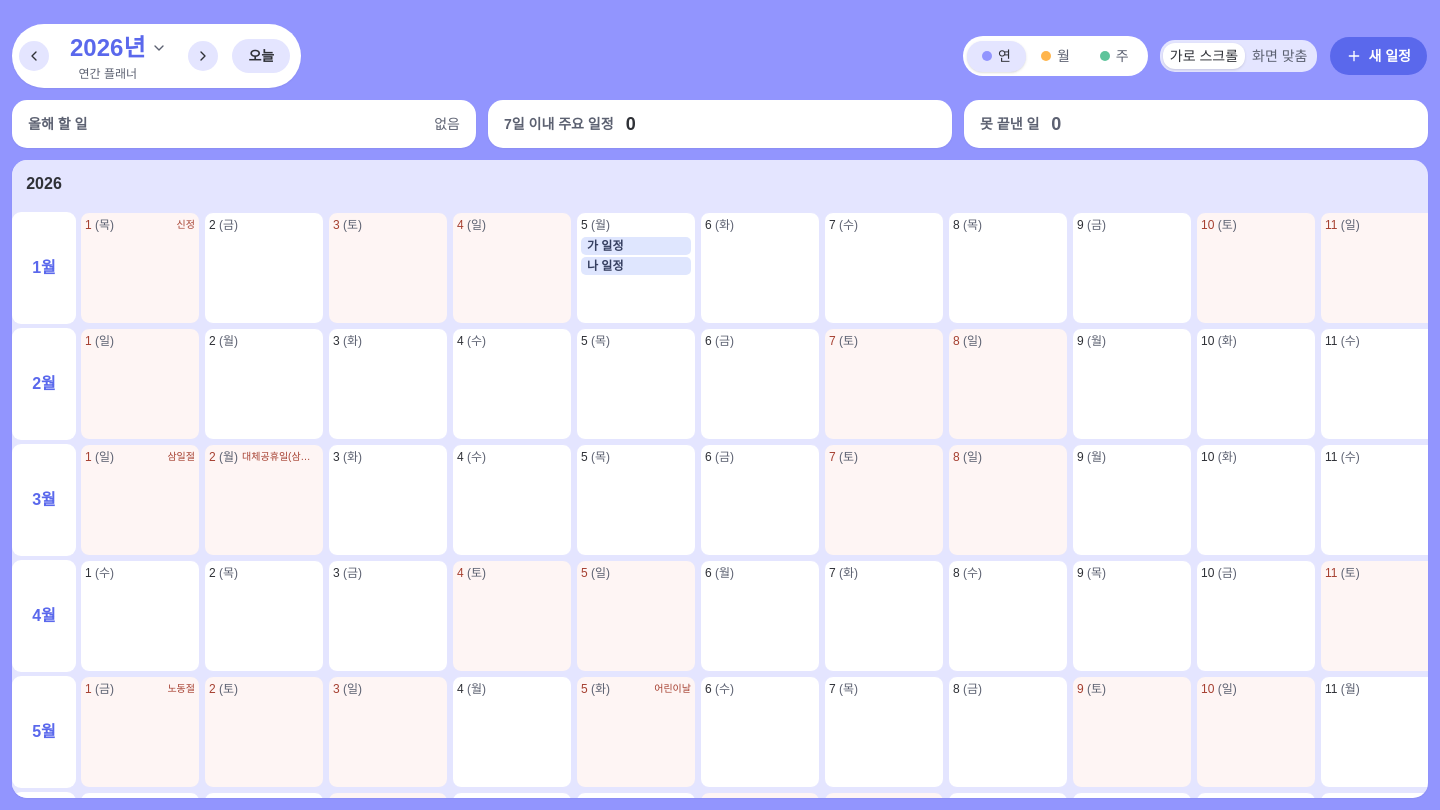
Scenario: 접근성: 기간 일정 › 달력 막대와 패널 목록에는 연필·X 버튼이 없고, 패널 목록의 띠는 일정 이름으로 읽히는 버튼이다
Click the button titled "상세 일정 관리". click: (596, 225)
box: x1=579 y1=217 x2=612 y2=233
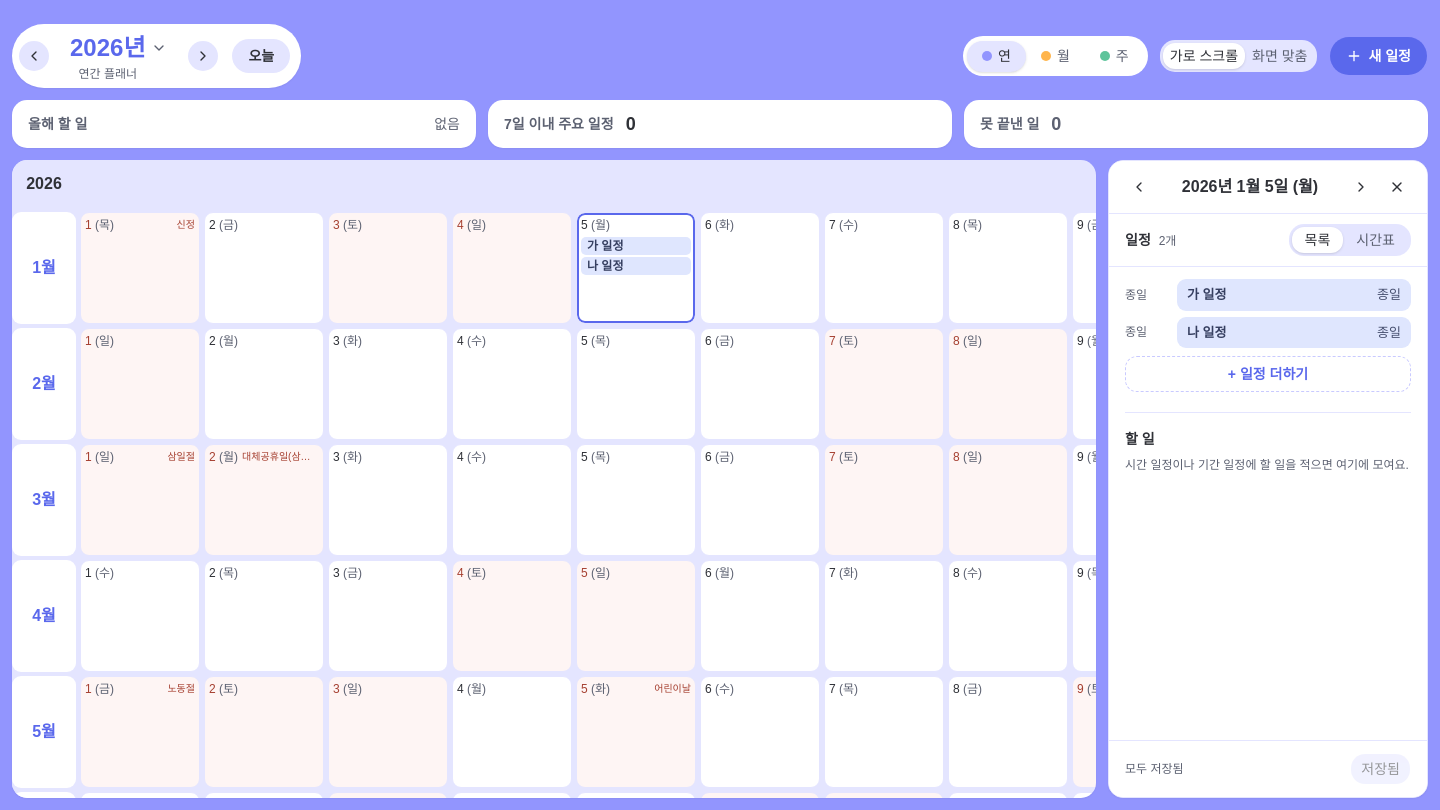
Check: the button "나 일정 종일" is shown, box x1=1177 y1=316 x2=1411 y2=348
